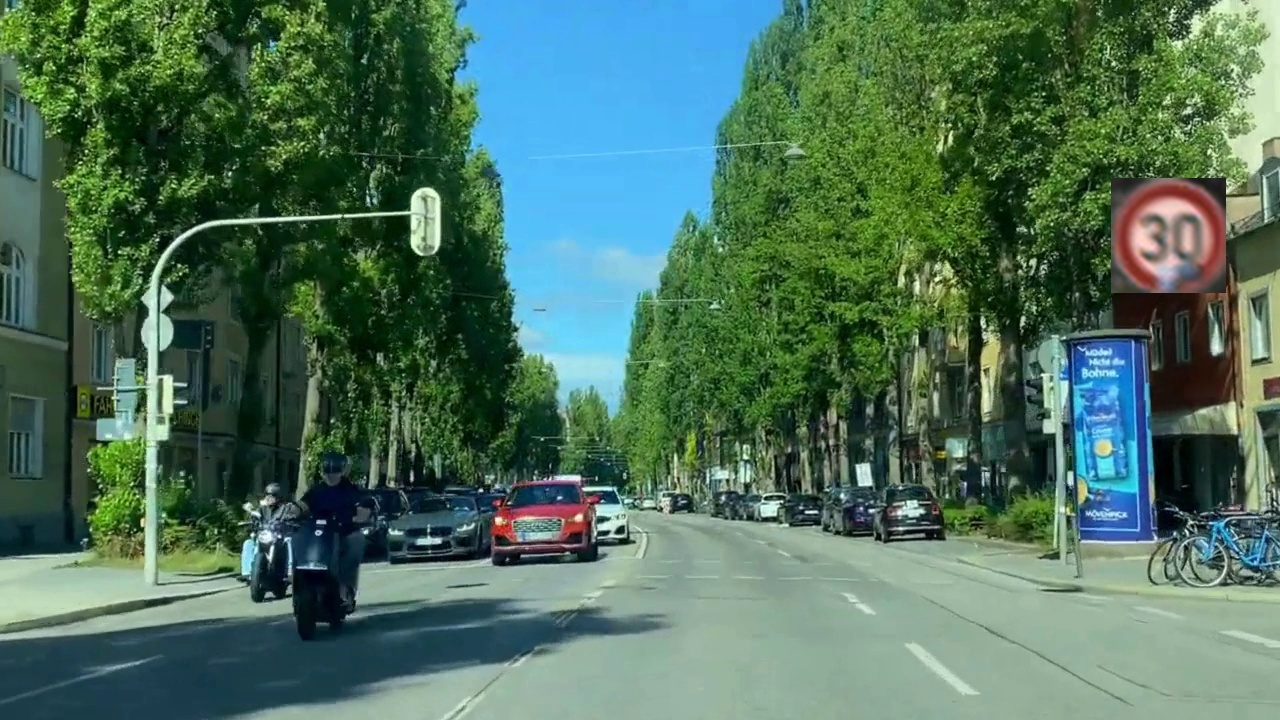Speed 30: (1111, 178, 1226, 293)
